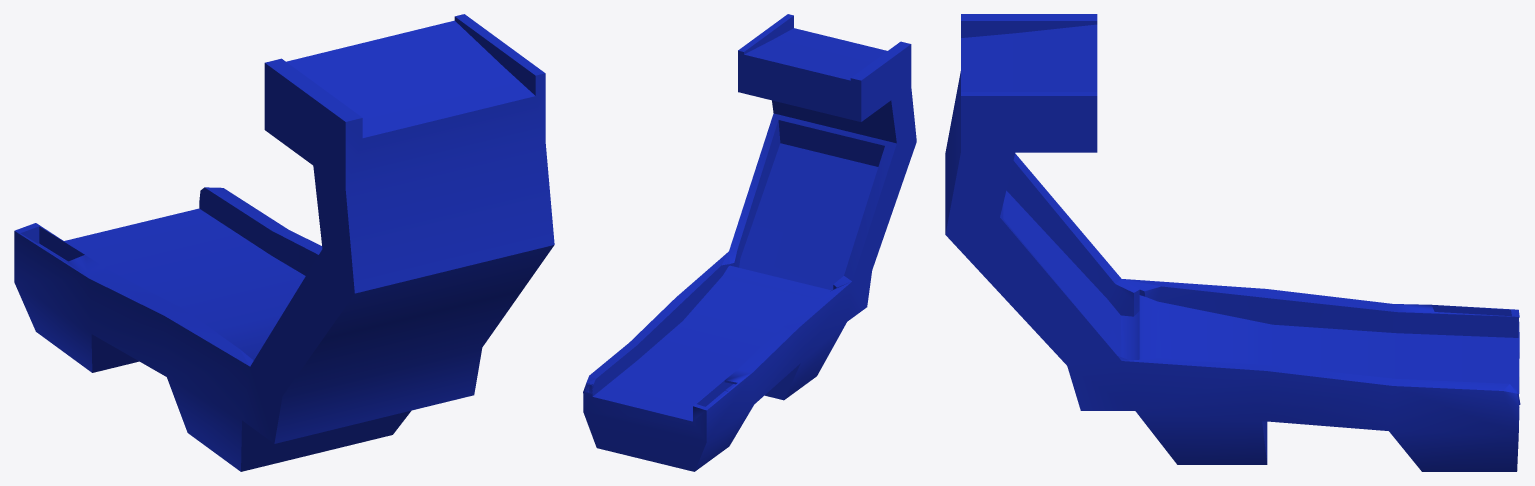
File: SkeeBallMachine.fbx
3 views of the same model, side by side, from view 1: azimuth 30°, elevation 25°; view 2: azimuth 150°, elevation 25°; view 3: azimuth 270°, elevation 25° (orthographic). The views are drawn at different scales.
Parts seen in each view (by area): view 1: Box004; view 2: Box004; view 3: Box004.
Boxes of the visible parts, x1,y1,x2,y2 form: Box004: [14, 14, 554, 471]; Box004: [583, 14, 916, 471]; Box004: [945, 14, 1520, 471].
Bounding box in the file's own units: 33.8 × 73.8 × 100.
